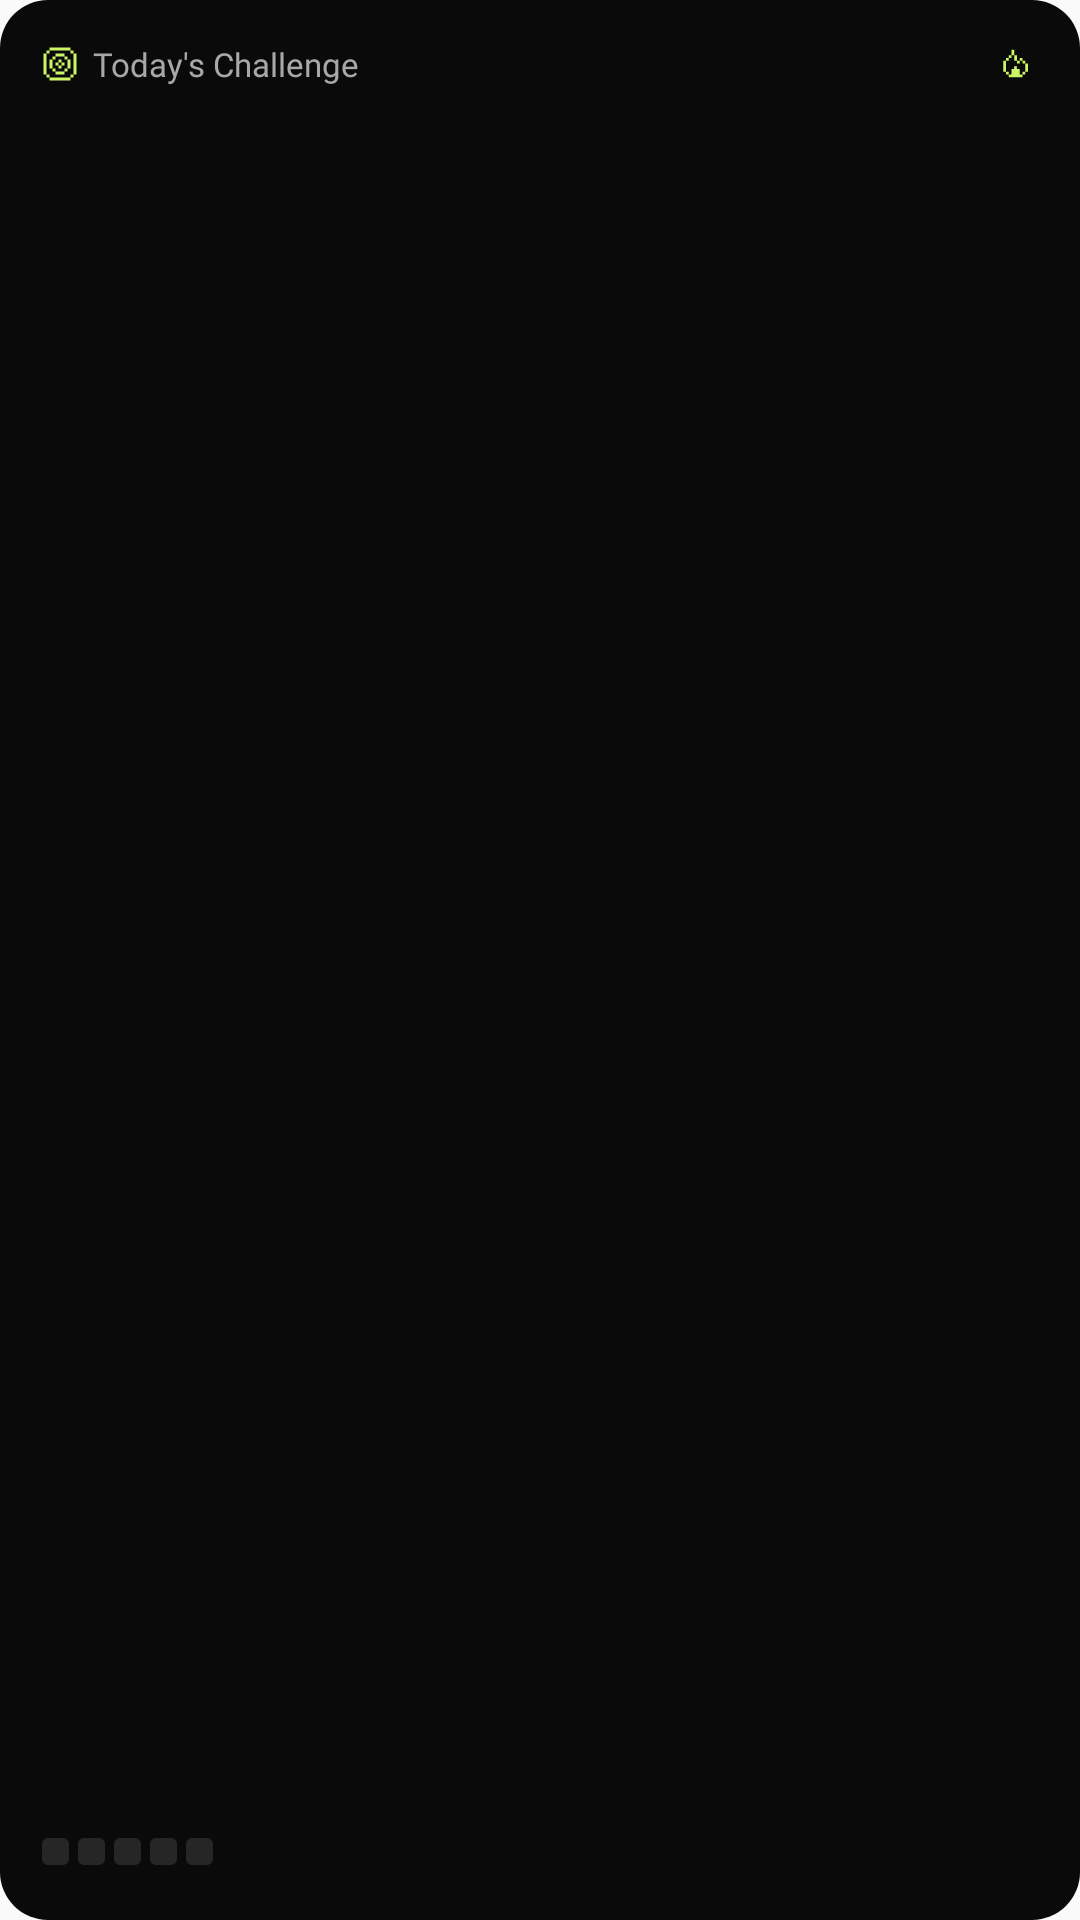

Icons on this 1080px x 1920px Android screen, each with its box as (x1, y1, x2, y2):
widget flame: (1003, 49, 1028, 78)
widget target: (43, 47, 77, 81)
